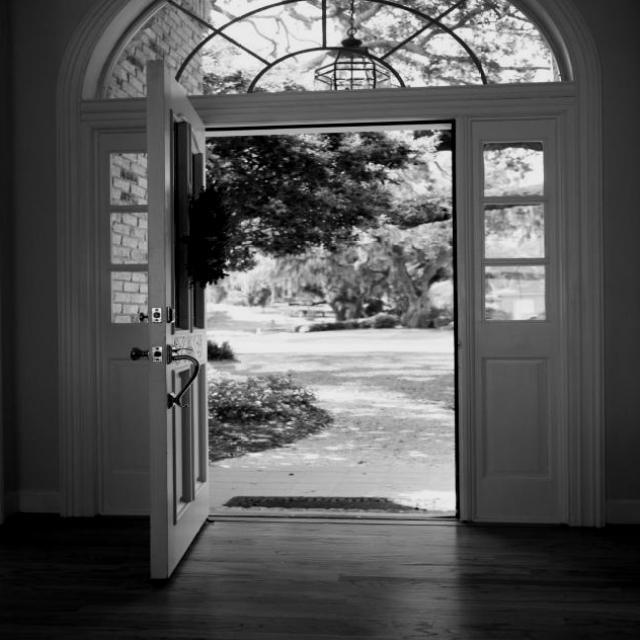door: (134, 44, 218, 592)
